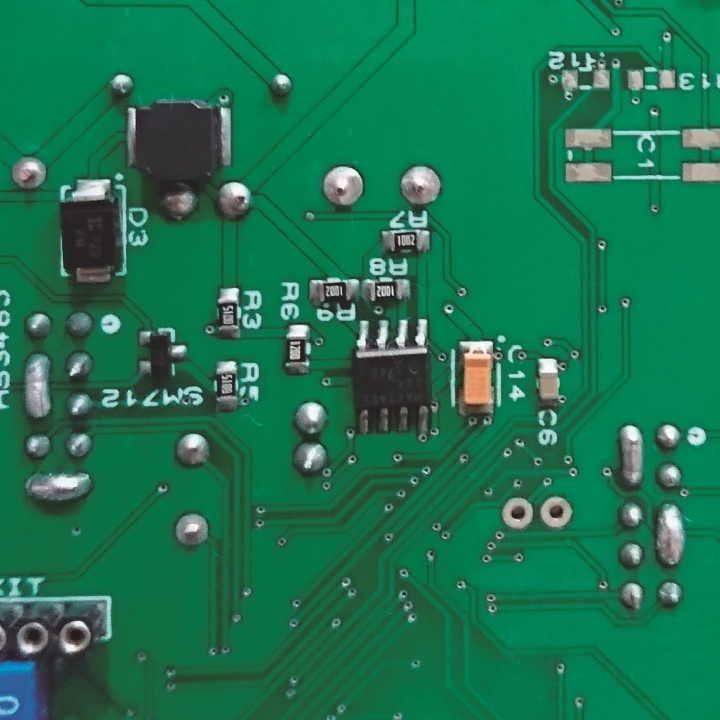F: (320, 161, 368, 212), (397, 160, 443, 209), (7, 152, 53, 195), (173, 507, 212, 549), (500, 494, 536, 534), (536, 495, 576, 530)
P: (648, 498, 689, 569), (21, 470, 101, 503), (20, 349, 55, 424), (618, 421, 645, 495)
